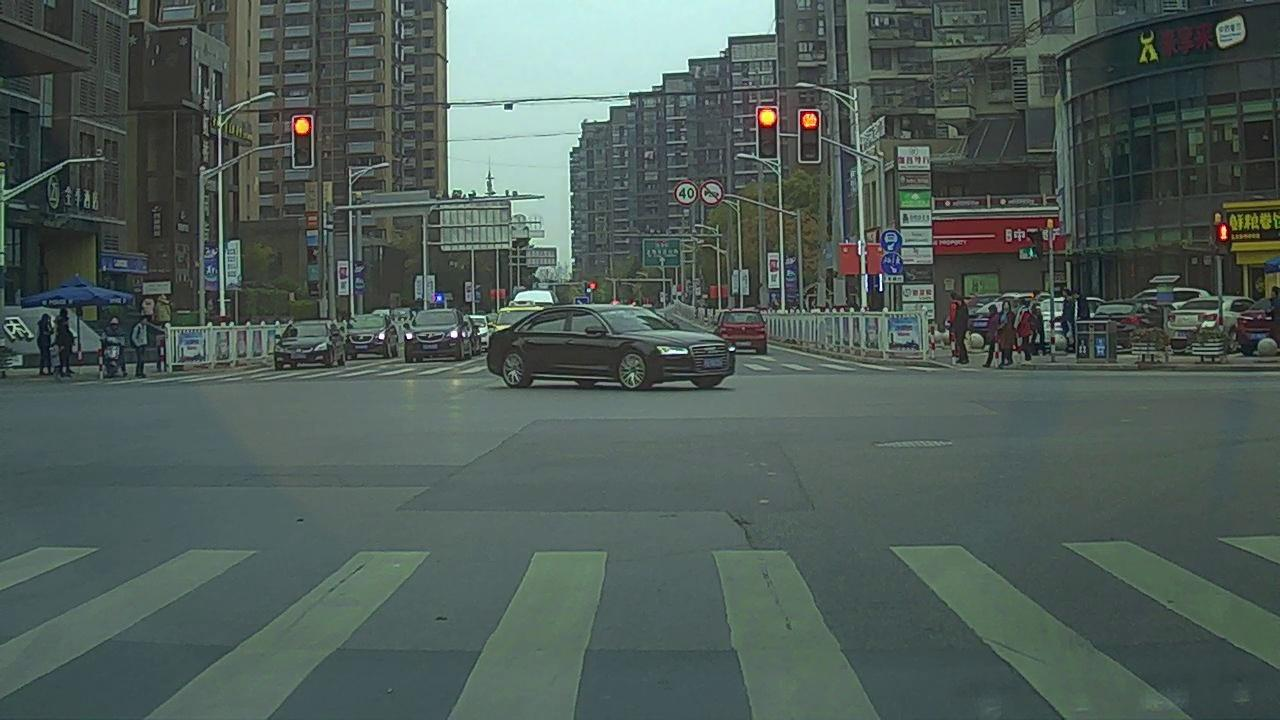traffic_light: (291, 117, 315, 166), (757, 107, 779, 160), (800, 111, 820, 164)
